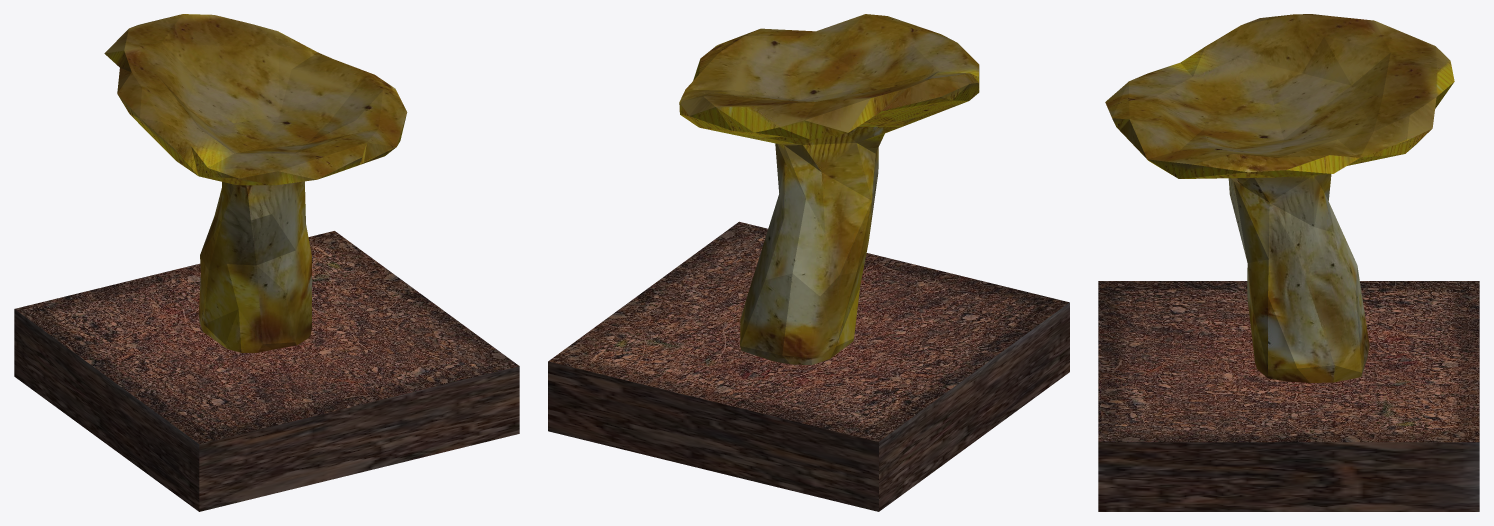
Rendered from Mushroom.glb.
3 views of the same model, side by side, from view 1: azimuth 30°, elevation 25°; view 2: azimuth 150°, elevation 25°; view 3: azimuth 270°, elevation 25° (orthographic). The views are drawn at different scales.
Visible parts, largest first — view 1: MushroomInWood; view 2: MushroomInWood; view 3: MushroomInWood.
Boxes of the visible parts, <box> form: MushroomInWood: <box>14,14,519,511</box>; MushroomInWood: <box>548,14,1069,511</box>; MushroomInWood: <box>1098,14,1479,511</box>.
Bounding box in the file's own units: 2 × 2.08 × 2.
2 materials, 2 textured.
